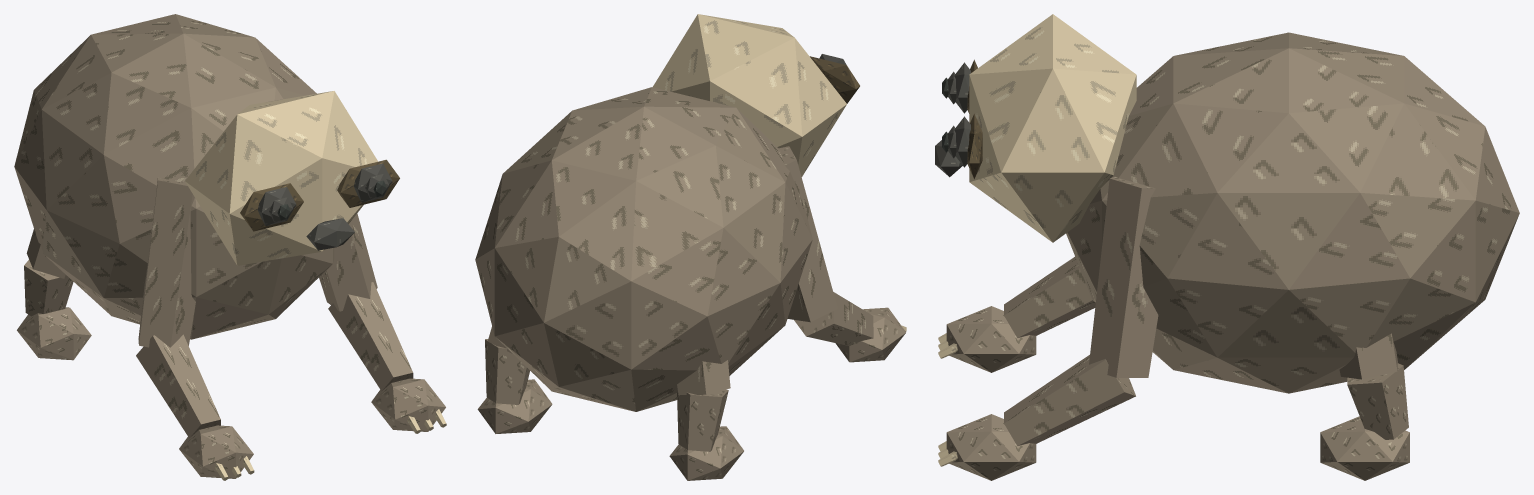
The model's file is animal-preguica-v01.gltf.
3 renders of one model, left to right at view 1: azimuth 30°, elevation 25°; view 2: azimuth 150°, elevation 25°; view 3: azimuth 270°, elevation 25°, orthographic. The views are drawn at different scales.
Visible parts, largest first — view 1: corpo, cabeca, perna-frente-esquerda, perna-frente-direita, perna-tras-esquerda; view 2: corpo, cabeca, perna-frente-esquerda, perna-tras-esquerda, perna-tras-direita; view 3: corpo, cabeca, perna-frente-direita, perna-tras-direita, perna-frente-esquerda.
Boxes of the visible parts, left/top/right/bottom form: corpo: left=14, top=14, right=334, bottom=339; cabeca: left=185, top=91, right=399, bottom=265; perna-frente-esquerda: left=136, top=177, right=254, bottom=480; perna-frente-direita: left=319, top=213, right=446, bottom=433; perna-tras-esquerda: left=17, top=229, right=91, bottom=360; corpo: left=475, top=87, right=812, bottom=411; cabeca: left=653, top=14, right=859, bottom=176; perna-frente-esquerda: left=779, top=146, right=906, bottom=362; perna-tras-esquerda: left=669, top=360, right=743, bottom=480; perna-tras-direita: left=477, top=326, right=552, bottom=433; corpo: left=1066, top=32, right=1519, bottom=393; cabeca: left=935, top=14, right=1136, bottom=242; perna-frente-direita: left=938, top=176, right=1158, bottom=480; perna-tras-direita: left=1320, top=333, right=1409, bottom=480; perna-frente-esquerda: left=938, top=257, right=1095, bottom=372.
Bounding box in the file's own units: 0.74 × 0.8459 × 1.19.
Materials: 1 (1 with a texture image).
